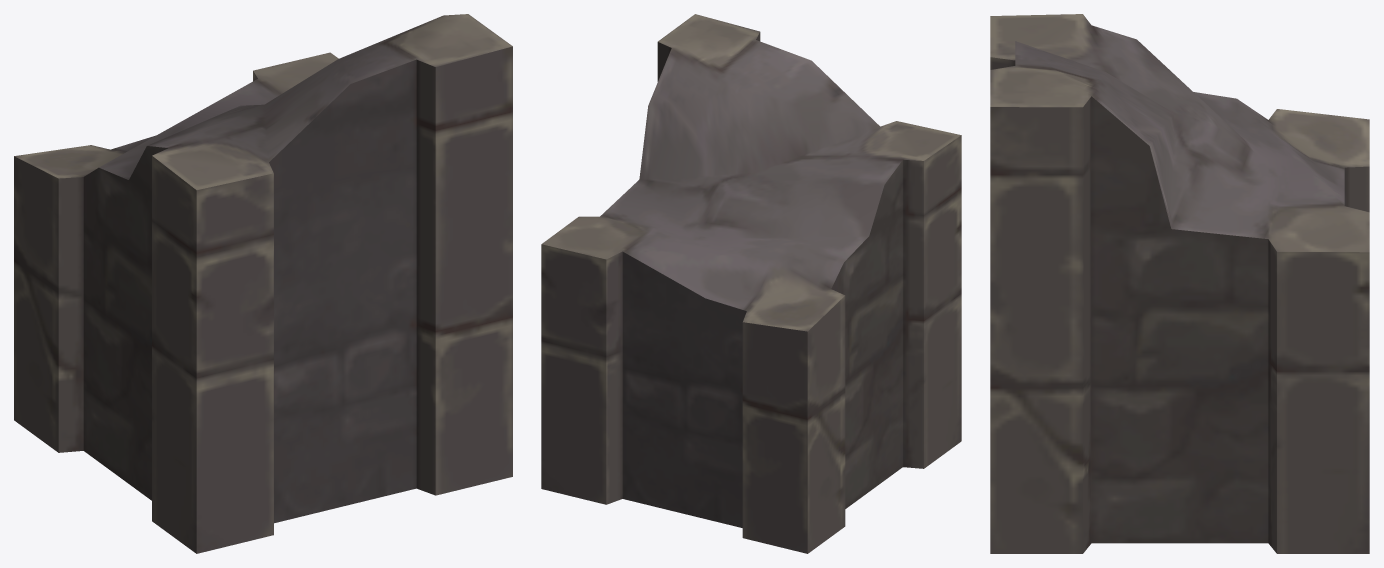
File: sn_shengdi_brokenpost_003.FBX
The picture shows the model from 3 angles, left to right: view 1: azimuth 30°, elevation 25°; view 2: azimuth 150°, elevation 25°; view 3: azimuth 270°, elevation 25°; orthographic projection. The views are drawn at different scales.
Parts seen in each view (by area): view 1: sn_shengdi_brokenpost_003; view 2: sn_shengdi_brokenpost_003; view 3: sn_shengdi_brokenpost_003.
Boxes of the visible parts, left/top/right/bottom form: sn_shengdi_brokenpost_003: left=14, top=14, right=512, bottom=553; sn_shengdi_brokenpost_003: left=541, top=14, right=961, bottom=553; sn_shengdi_brokenpost_003: left=990, top=14, right=1369, bottom=553.
Size of the model in its own units: 131 by 131 by 170.
